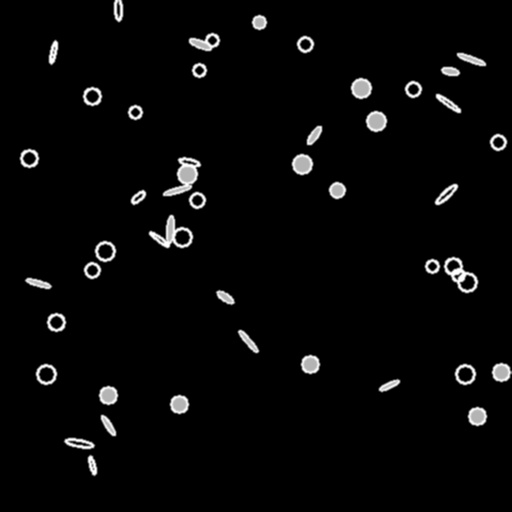pseudomonas: (237, 329, 259, 353), (434, 183, 458, 205), (435, 93, 461, 113), (457, 52, 485, 66), (149, 230, 169, 248), (100, 414, 116, 436), (163, 184, 191, 196), (188, 37, 212, 51), (306, 125, 322, 145), (64, 438, 94, 448), (26, 277, 50, 289), (178, 156, 200, 168), (130, 189, 146, 205), (216, 290, 234, 304), (379, 379, 399, 391), (166, 215, 174, 243), (48, 41, 58, 63), (441, 66, 459, 76), (87, 456, 97, 474), (114, 0, 122, 21)
synechocystis: (293, 155, 311, 173), (173, 228, 191, 246), (456, 365, 474, 383), (367, 112, 385, 130), (458, 273, 476, 291), (96, 242, 114, 260), (178, 165, 196, 183), (37, 365, 55, 383), (352, 79, 370, 97), (302, 356, 318, 372), (21, 150, 37, 166), (469, 408, 485, 424), (100, 387, 116, 403), (48, 314, 64, 330), (493, 364, 509, 380), (445, 258, 461, 274), (84, 88, 100, 104), (171, 396, 187, 412), (491, 135, 505, 149), (330, 183, 344, 197), (406, 82, 420, 96), (85, 263, 99, 277), (298, 37, 312, 51), (190, 193, 204, 207), (253, 16, 265, 28), (206, 34, 218, 46), (452, 269, 464, 281), (193, 64, 205, 76), (129, 106, 141, 118), (426, 260, 438, 272)
